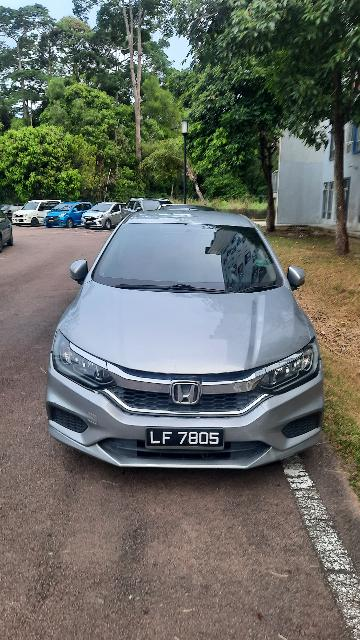License_Plate: (137, 422, 229, 460)
car: (30, 204, 330, 479)
